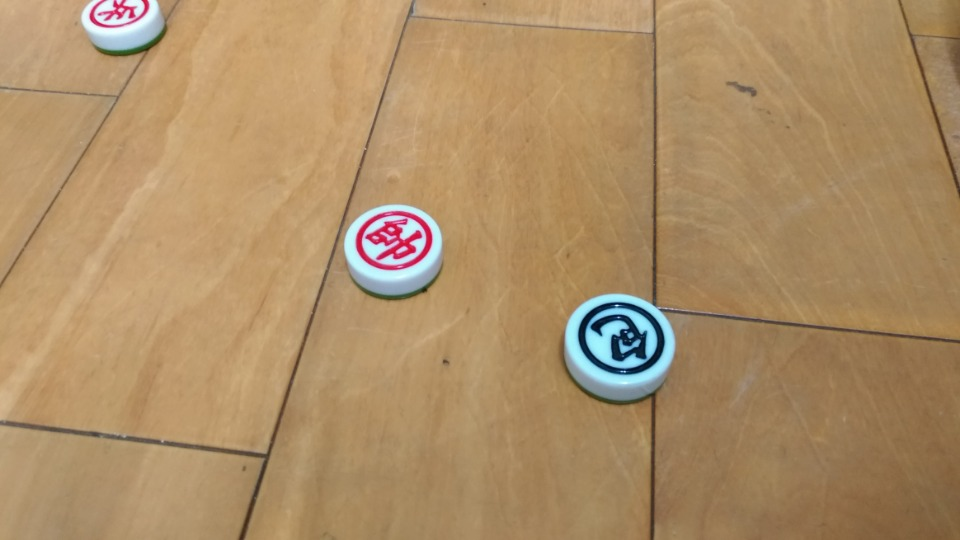b-cannon: (546, 284, 691, 408)
r-king: (322, 192, 468, 307)
r-pawn: (65, 1, 208, 62)
